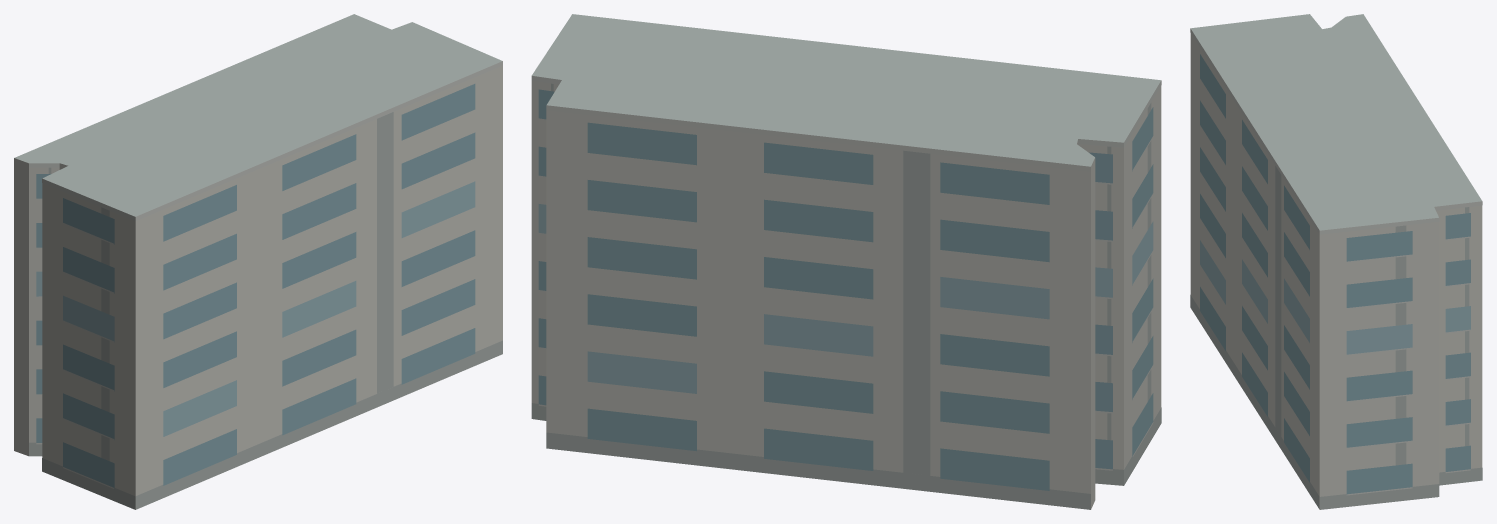
The model's file is survey-upis-32645950.glb.
3 renders of one model, left to right at view 1: azimuth 30°, elevation 25°; view 2: azimuth 150°, elevation 25°; view 3: azimuth 270°, elevation 25°, orthographic. The views are drawn at different scales.
Parts seen in each view (by area): view 1: survey-upis-32645950.tmp; view 2: survey-upis-32645950.tmp; view 3: survey-upis-32645950.tmp.
Boxes of the visible parts, x1=… form: survey-upis-32645950.tmp: x1=14, y1=14, x2=502, y2=509; survey-upis-32645950.tmp: x1=531, y1=14, x2=1161, y2=509; survey-upis-32645950.tmp: x1=1190, y1=14, x2=1482, y2=509.
Bounding box in the file's own units: 26.96 × 16.2 × 15.36.
